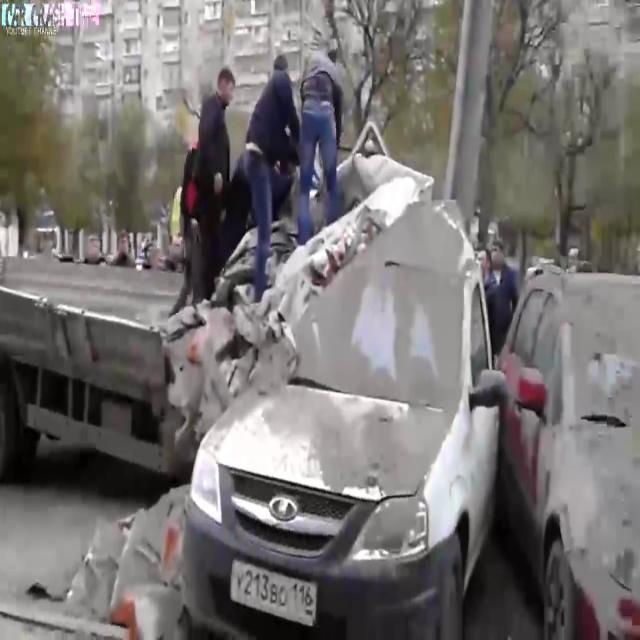Accident: (122, 47, 492, 606), (528, 201, 640, 640)
